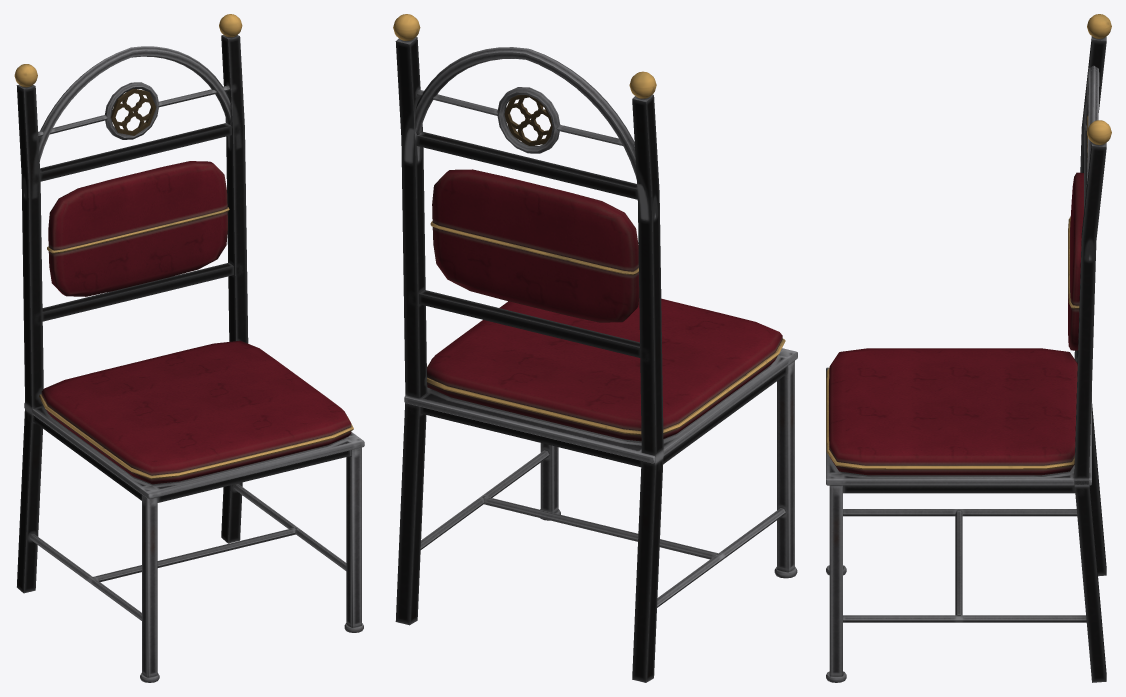
The model's file is DormChair.fbx.
3 views of the same model, side by side, from view 1: azimuth 30°, elevation 25°; view 2: azimuth 150°, elevation 25°; view 3: azimuth 270°, elevation 25° (orthographic). The views are drawn at different scales.
Visible parts, largest first — view 1: DormChair; view 2: DormChair; view 3: DormChair.
Part boxes in pixels (x1,y1,x2,y2): DormChair: (14, 14, 364, 682); DormChair: (393, 14, 797, 682); DormChair: (826, 14, 1111, 682).
Bounding box in the file's own units: 187 × 417 × 194.
